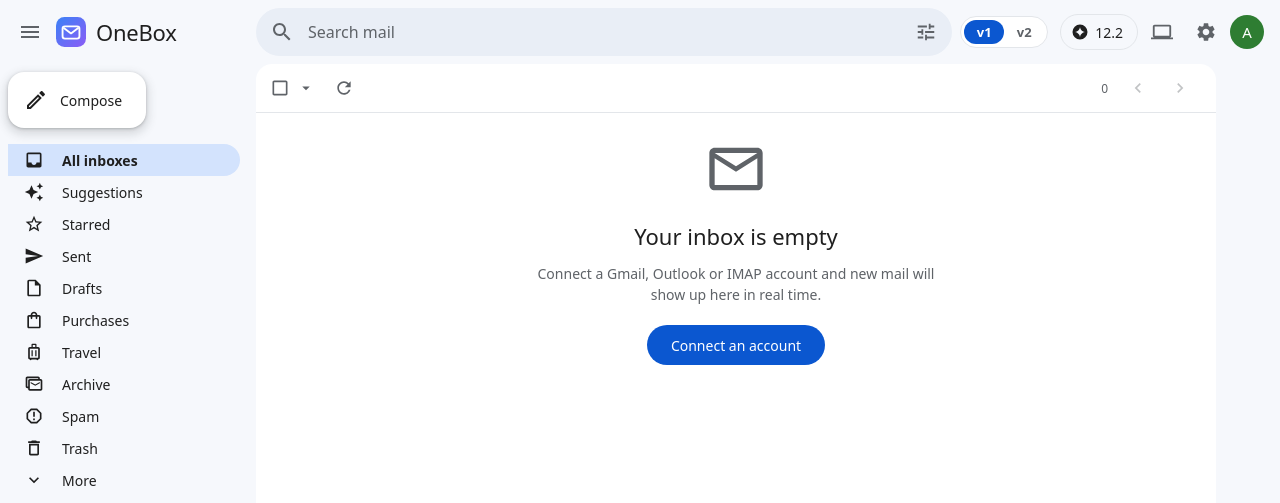
Scenario: AppShell › navigates to Starred
Click the link "Starred".
click(67, 224)  # box x1=24 y1=214 x2=110 y2=234
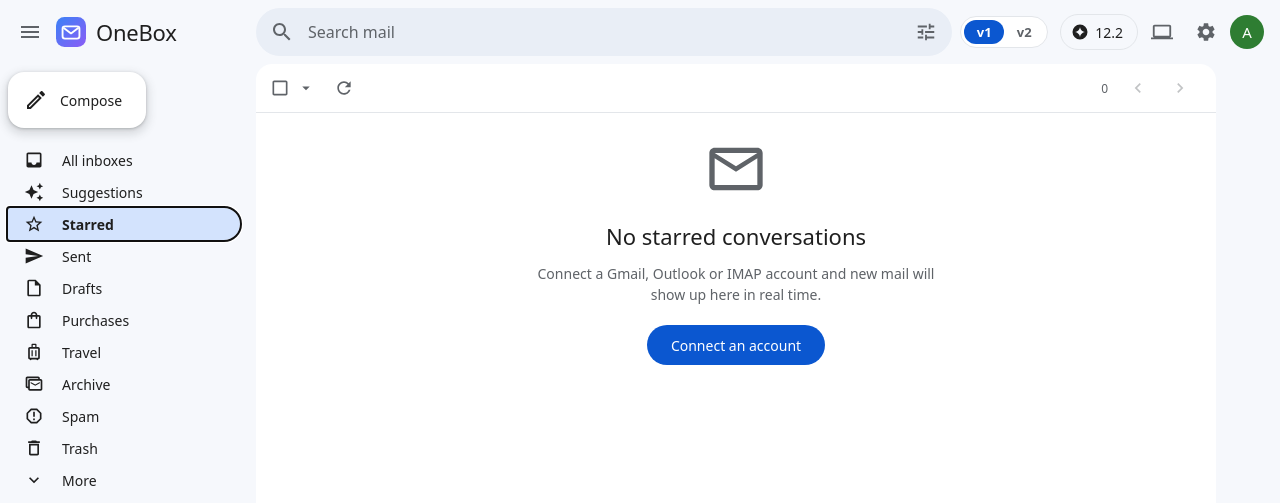
Result: the heading "No starred conversations" is shown at x1=606 y1=221 x2=866 y2=251
